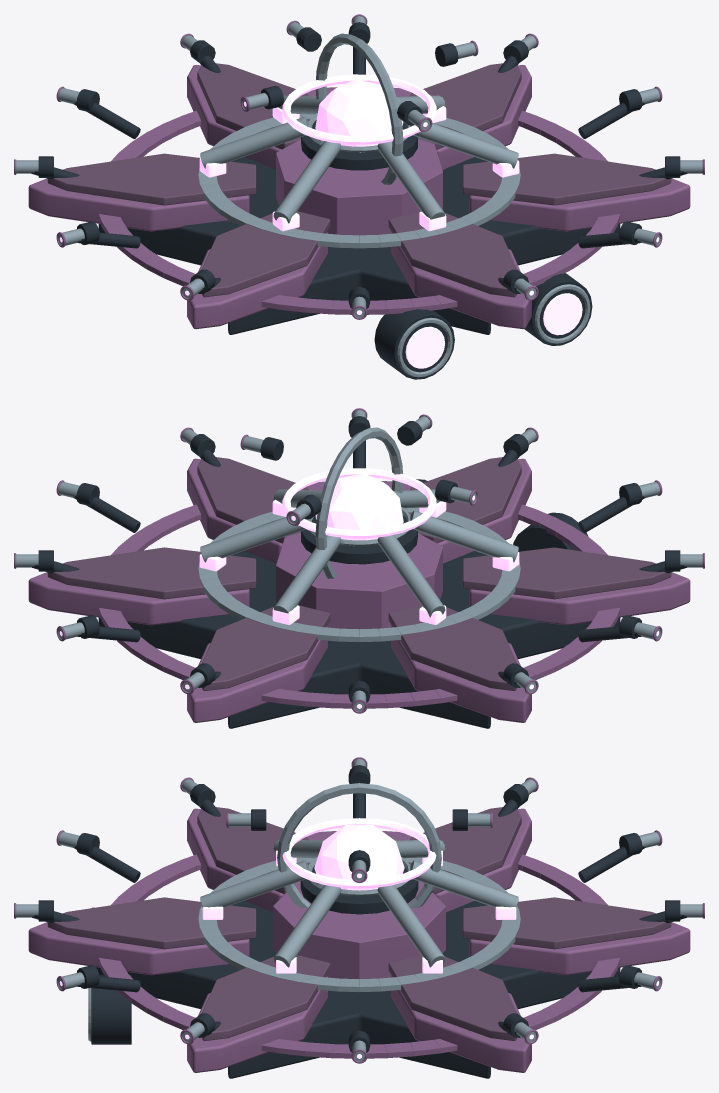
Rendered from chapter5Boss_catedral.glb.
3 renders of one model, top to bottom at view 1: azimuth 30°, elevation 25°; view 2: azimuth 150°, elevation 25°; view 3: azimuth 270°, elevation 25°, orthographic.
Parts seen in each view (by area): view 1: chapter5Boss | CATEDRAL | armor, chapter5Boss | CATEDRAL | secondary, chapter5Boss | Graphite chassis, chapter5Boss | Titanium, chapter5Boss | CATEDRAL | energy, radial_rotor | Graphite chassis, radial_rotor | Titanium, beam_rotor | Graphite chassis, beam_rotor | Titanium, radial_rotor | CATEDRAL | armor; view 2: chapter5Boss | CATEDRAL | armor, chapter5Boss | CATEDRAL | secondary, chapter5Boss | Graphite chassis, chapter5Boss | Titanium, radial_rotor | Graphite chassis, chapter5Boss | CATEDRAL | energy, radial_rotor | Titanium, beam_rotor | Graphite chassis, beam_rotor | Titanium, radial_rotor | CATEDRAL | armor; view 3: chapter5Boss | CATEDRAL | armor, chapter5Boss | CATEDRAL | secondary, chapter5Boss | Titanium, chapter5Boss | Graphite chassis, radial_rotor | Graphite chassis, chapter5Boss | CATEDRAL | energy, radial_rotor | Titanium, beam_rotor | Graphite chassis, beam_rotor | Titanium, radial_rotor | CATEDRAL | armor.
Part boxes in pixels (x1,y1,x2,y2): chapter5Boss | CATEDRAL | armor: [28, 65, 690, 329]; chapter5Boss | CATEDRAL | secondary: [47, 63, 671, 297]; chapter5Boss | Graphite chassis: [98, 121, 620, 379]; chapter5Boss | Titanium: [198, 33, 590, 377]; chapter5Boss | CATEDRAL | energy: [199, 74, 582, 368]; radial_rotor | Graphite chassis: [31, 22, 687, 308]; radial_rotor | Titanium: [16, 16, 702, 317]; beam_rotor | Graphite chassis: [261, 27, 458, 125]; beam_rotor | Titanium: [242, 22, 475, 129]; radial_rotor | CATEDRAL | armor: [14, 14, 704, 319]; chapter5Boss | CATEDRAL | armor: [28, 458, 690, 722]; chapter5Boss | CATEDRAL | secondary: [47, 457, 671, 690]; chapter5Boss | Graphite chassis: [98, 479, 620, 728]; chapter5Boss | Titanium: [198, 427, 520, 642]; radial_rotor | Graphite chassis: [32, 416, 686, 702]; chapter5Boss | CATEDRAL | energy: [199, 468, 519, 624]; radial_rotor | Titanium: [16, 410, 702, 711]; beam_rotor | Graphite chassis: [260, 421, 457, 519]; beam_rotor | Titanium: [243, 416, 476, 523]; radial_rotor | CATEDRAL | armor: [14, 408, 704, 713]; chapter5Boss | CATEDRAL | armor: [28, 808, 690, 1072]; chapter5Boss | CATEDRAL | secondary: [47, 807, 671, 1040]; chapter5Boss | Titanium: [88, 783, 520, 1041]; chapter5Boss | Graphite chassis: [91, 866, 620, 1078]; radial_rotor | Graphite chassis: [32, 781, 686, 1052]; chapter5Boss | CATEDRAL | energy: [202, 818, 516, 973]; radial_rotor | Titanium: [16, 779, 702, 1061]; beam_rotor | Graphite chassis: [251, 765, 467, 872]; beam_rotor | Titanium: [228, 759, 490, 880]; radial_rotor | CATEDRAL | armor: [14, 766, 704, 1063].
Bounding box in the file's own units: 5.66 × 2.03 × 5.66.
